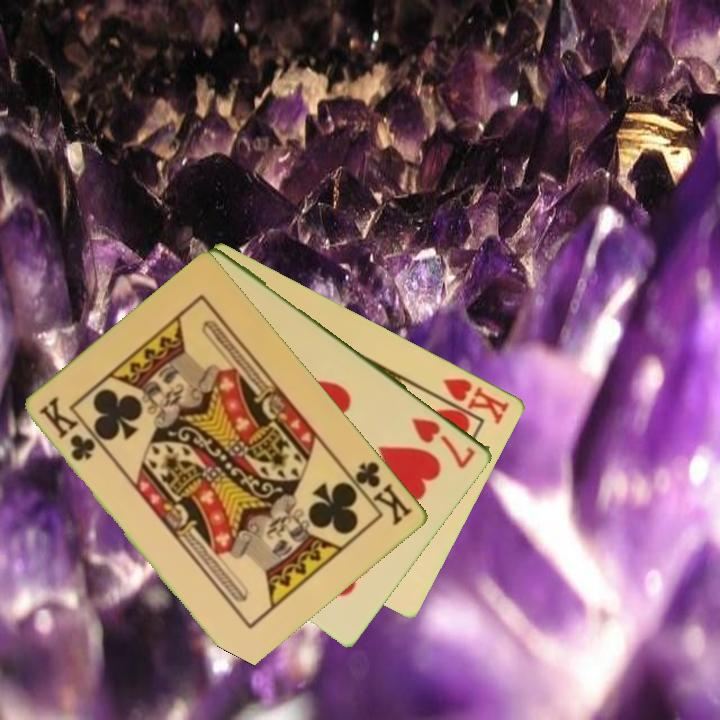7h: (408, 413, 479, 472)
Kc: (343, 457, 416, 529), (36, 394, 100, 465)
Kh: (428, 374, 513, 427)
